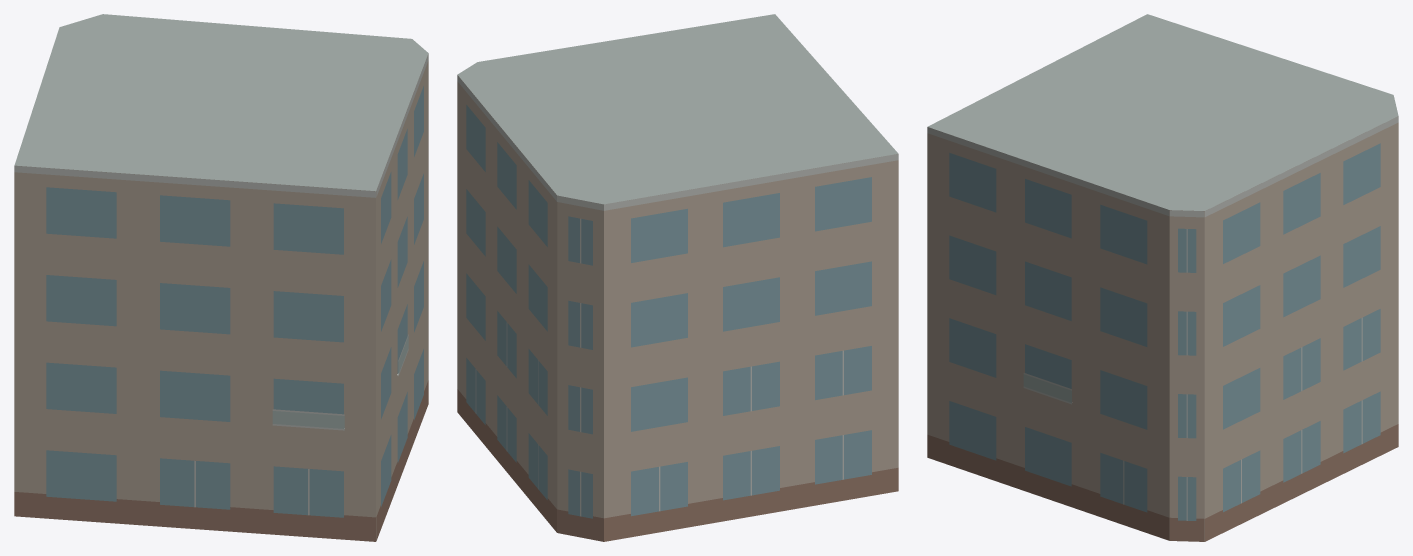
The model's file is survey-upis-32705495.glb.
3 renders of one model, left to right at view 1: azimuth 30°, elevation 25°; view 2: azimuth 150°, elevation 25°; view 3: azimuth 270°, elevation 25°, orthographic. The views are drawn at different scales.
Visible parts, largest first — view 1: survey-upis-32705495.tmp; view 2: survey-upis-32705495.tmp; view 3: survey-upis-32705495.tmp.
Boxes of the visible parts, left/top/right/bottom form: survey-upis-32705495.tmp: left=14, top=14, right=428, bottom=541; survey-upis-32705495.tmp: left=457, top=14, right=898, bottom=541; survey-upis-32705495.tmp: left=927, top=14, right=1398, bottom=541.
Bounding box in the file's own units: 16.37 × 12.8 × 16.54.
